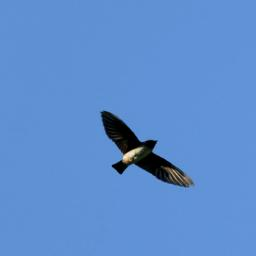Swallow: (79, 111, 213, 191)
